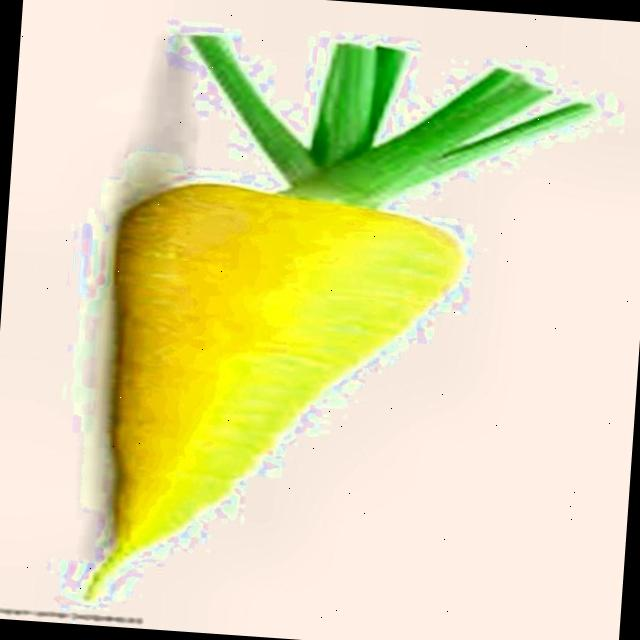carrot: (87, 34, 591, 597)
